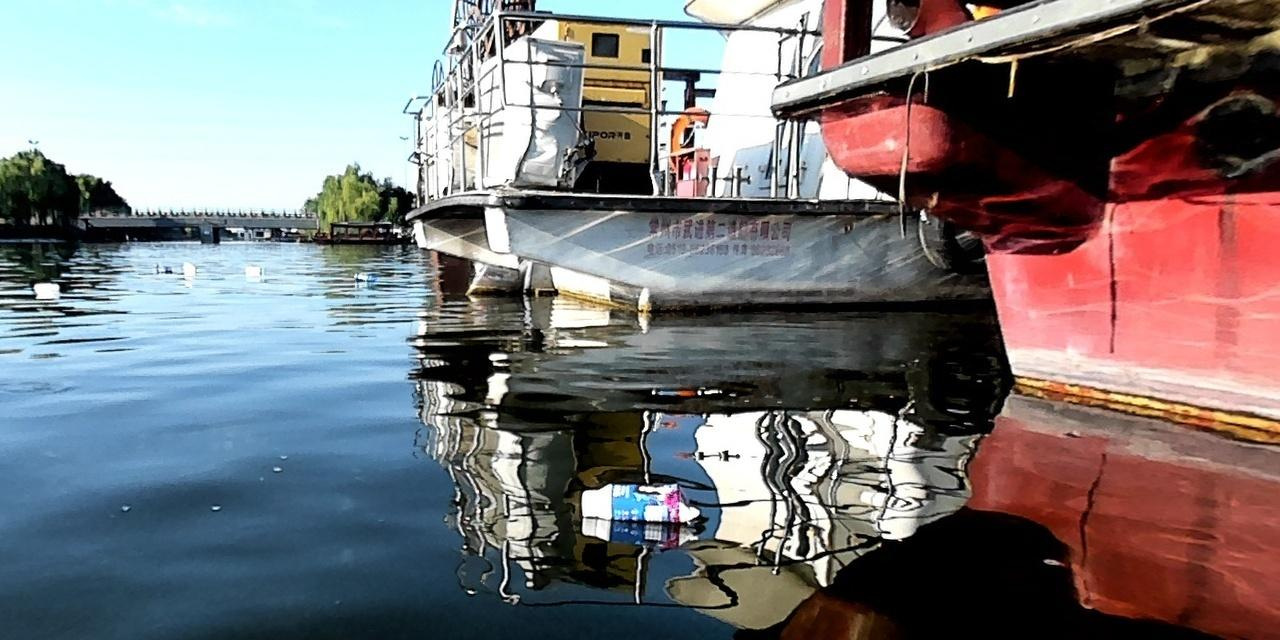bottle: (573, 478, 698, 524), (350, 267, 374, 283)
